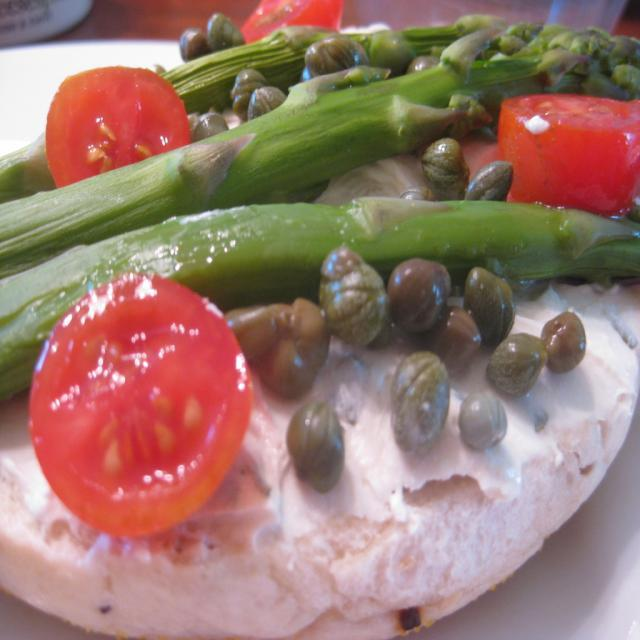Tomato: (17, 266, 260, 541), (44, 65, 193, 189), (496, 94, 640, 220), (241, 0, 341, 42)
